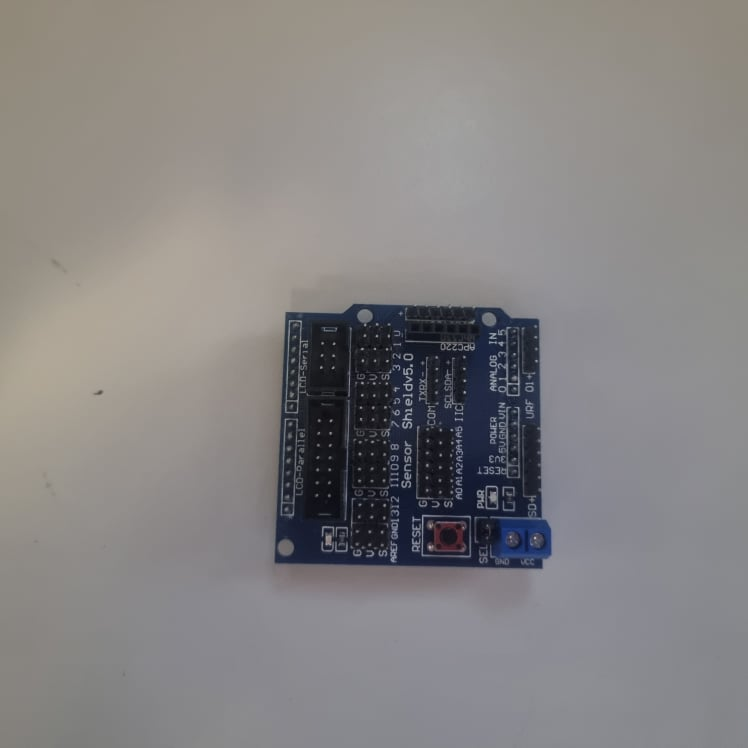5V EXPANSION: (279, 305, 554, 572)
